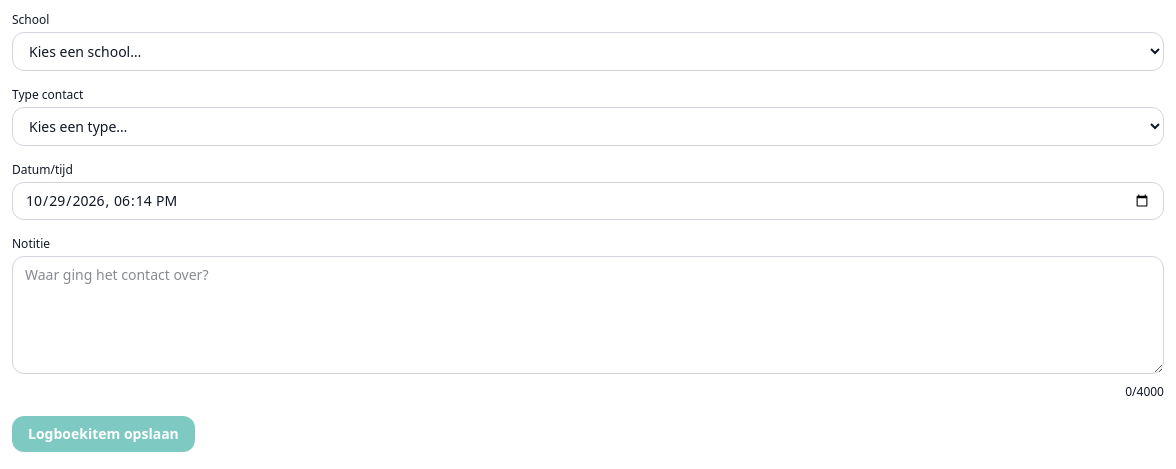
Test case: LogboekForm › de opslaanknop is uitgeschakeld zolang school/type/notitie niet allemaal ingevuld zijn
Expected: the button "Logboekitem opslaan" is disabled, [12,416,195,452]
Select "School A" in the dropdown labelled "School" at x=588, y=52, box [12,32,1164,71]
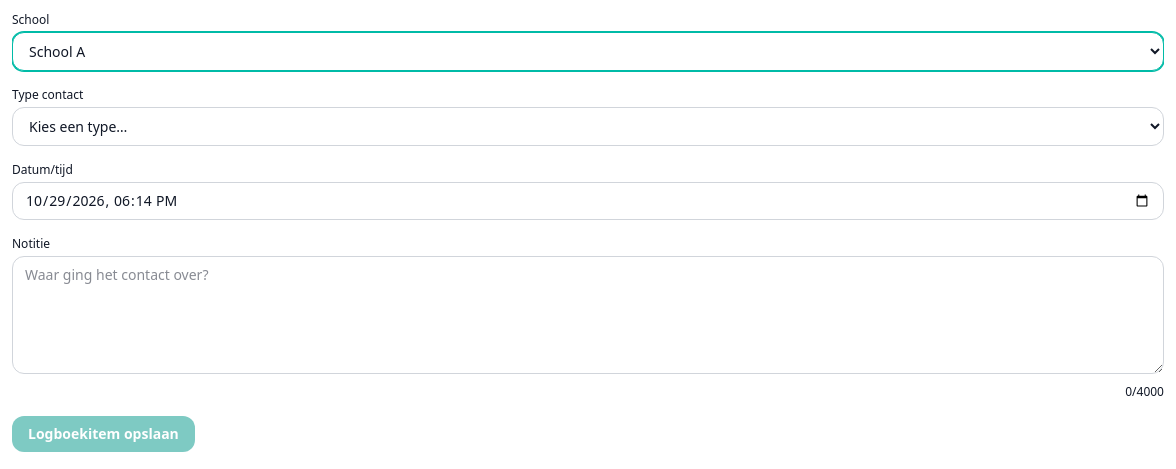
Expected: the button "Logboekitem opslaan" is disabled, [12,416,195,452]
Select "Telefonisch" in the dropdown labelled "Type contact" at x=588, y=126, box [12,107,1164,146]
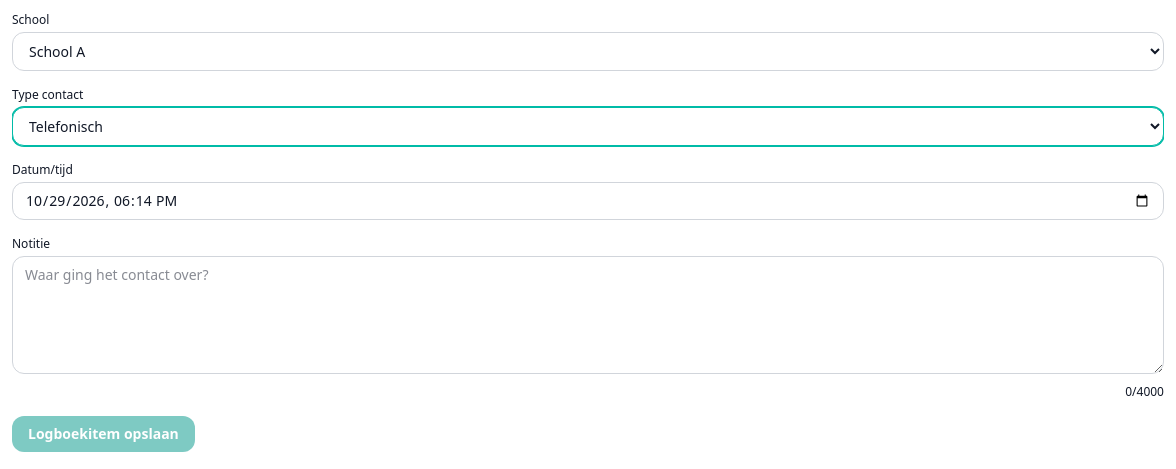
Expected: the button "Logboekitem opslaan" is disabled, [12,416,195,452]
Type "Gebeld over de planning." into the text box labelled "Notitie".
click(588, 315); type("Gebeld over de planning.")  # box [12,256,1164,374]
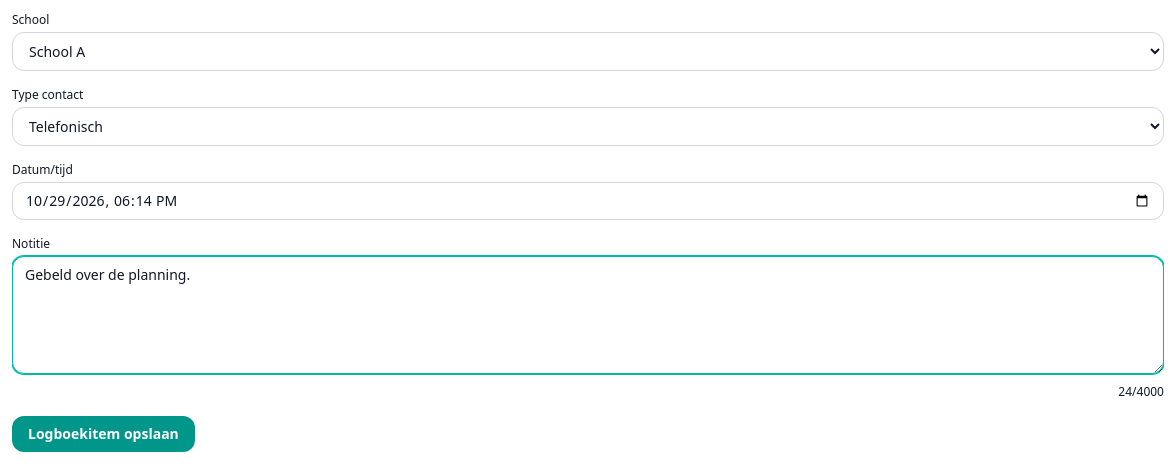
Expected: the button "Logboekitem opslaan" is enabled, [12,416,195,452]
